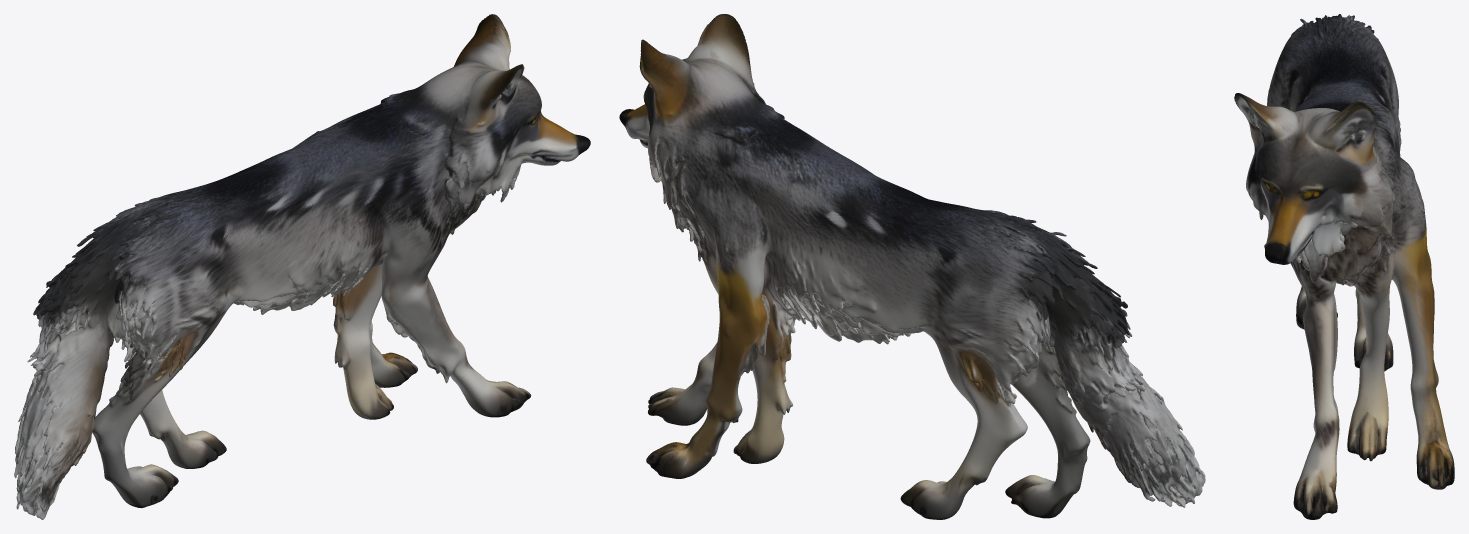
File: wolf.glb
3 renders of one model, left to right at view 1: azimuth 30°, elevation 25°; view 2: azimuth 150°, elevation 25°; view 3: azimuth 270°, elevation 25°, orthographic. The views are drawn at different scales.
Visible parts, largest first — view 1: tripo_node_2fd99706-b7de-476f-b91b-bc05fb1dbcdd; view 2: tripo_node_2fd99706-b7de-476f-b91b-bc05fb1dbcdd; view 3: tripo_node_2fd99706-b7de-476f-b91b-bc05fb1dbcdd.
Boxes of the visible parts, x1,y1,x2,y2 form: tripo_node_2fd99706-b7de-476f-b91b-bc05fb1dbcdd: [14, 14, 590, 519]; tripo_node_2fd99706-b7de-476f-b91b-bc05fb1dbcdd: [619, 14, 1205, 519]; tripo_node_2fd99706-b7de-476f-b91b-bc05fb1dbcdd: [1234, 14, 1454, 519].
Bounding box in the file's own units: 1 × 0.6465 × 0.3057.
1 material, 1 textured.
